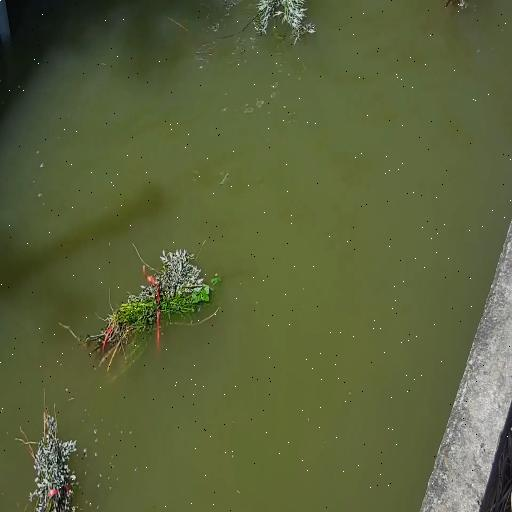twig: (6, 385, 226, 509), (70, 242, 220, 368), (14, 389, 82, 511), (250, 0, 318, 58)
